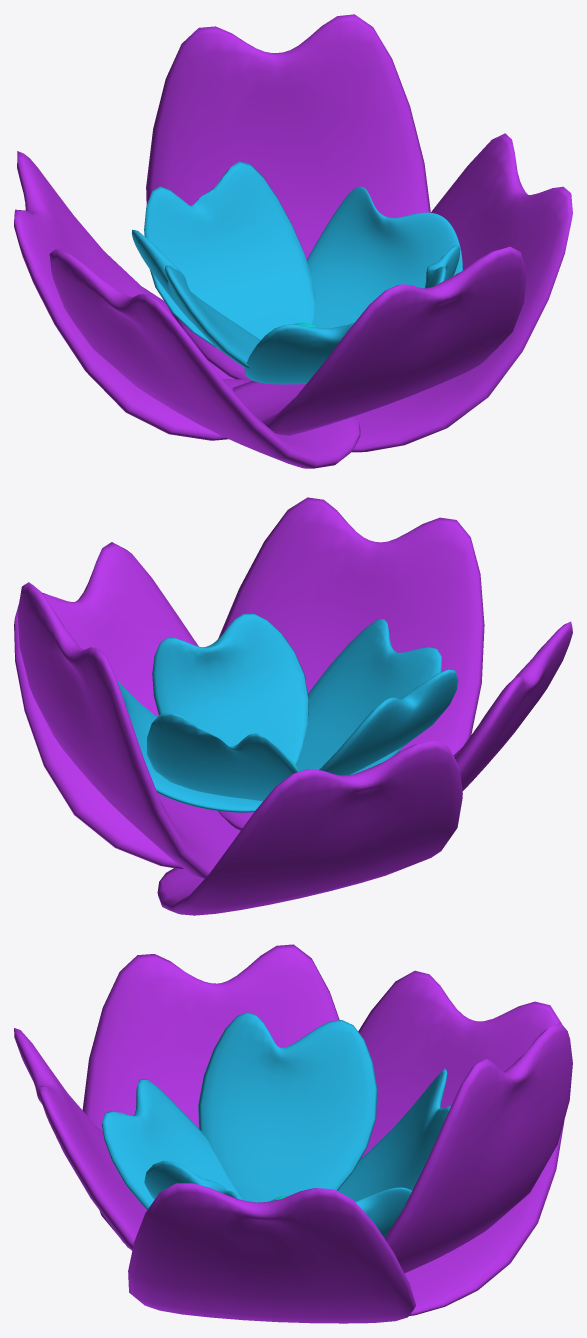
File: flower.glb
3 renders of one model, top to bottom at view 1: azimuth 30°, elevation 25°; view 2: azimuth 150°, elevation 25°; view 3: azimuth 270°, elevation 25°, orthographic.
Visible parts, largest first — view 1: petal.008, petal.005, petal.007, petal, petal.006, petal.001, petal.009, petal.003, petal.002, petal.004; view 2: petal.005, petal.009, petal.008, petal.007, petal.004, petal.003, petal, petal.002, petal.006, petal.001; view 3: petal.007, petal.002, petal.006, petal.008, petal.009, petal.003, petal.005, petal, petal.004, petal.001.
Part boxes in pixels (left/top/right/bottom): petal.008: left=146, top=14, right=430, bottom=379; petal.005: left=232, top=246, right=526, bottom=435; petal.007: left=351, top=133, right=572, bottom=452; petal: left=144, top=161, right=315, bottom=346; petal.006: left=49, top=249, right=360, bottom=468; petal.001: left=306, top=186, right=462, bottom=328; petal.009: left=14, top=151, right=234, bottom=440; petal.003: left=244, top=322, right=354, bottom=384; petal.002: left=131, top=229, right=260, bottom=368; petal.004: left=425, top=245, right=460, bottom=288; petal.005: left=218, top=497, right=484, bottom=830; petal.009: left=157, top=740, right=462, bottom=915; petal.008: left=17, top=582, right=240, bottom=878; petal.007: left=14, top=542, right=198, bottom=868; petal.004: left=152, top=613, right=308, bottom=764; petal.003: left=295, top=619, right=441, bottom=774; petal: left=147, top=712, right=298, bottom=801; petal.002: left=319, top=669, right=458, bottom=775; petal.006: left=453, top=621, right=572, bottom=790; petal.001: left=117, top=680, right=262, bottom=812; petal.007: left=128, top=1183, right=415, bottom=1323; petal.002: left=198, top=1012, right=377, bottom=1202; petal.006: left=82, top=944, right=339, bottom=1248; petal.008: left=384, top=1022, right=572, bottom=1273; petal.009: left=358, top=970, right=564, bottom=1315; petal.003: left=102, top=1079, right=242, bottom=1209; petal.005: left=14, top=1028, right=147, bottom=1250; petal: left=337, top=1068, right=450, bottom=1201; petal.004: left=144, top=1160, right=240, bottom=1199; petal.001: left=355, top=1187, right=411, bottom=1238.
Bounding box in the file's own units: 1.12 × 0.6931 × 1.14.
